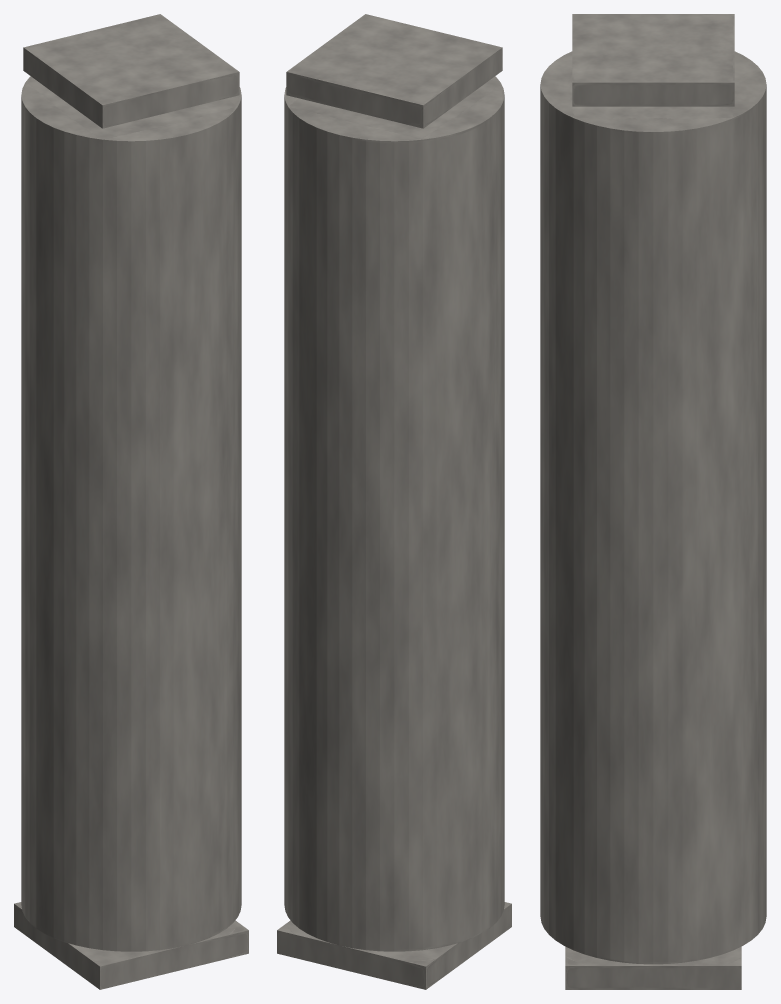
Rendered from pilastro_cripta.glb.
The picture shows the model from 3 angles, left to right: view 1: azimuth 30°, elevation 25°; view 2: azimuth 150°, elevation 25°; view 3: azimuth 270°, elevation 25°; orthographic projection. The views are drawn at different scales.
Parts seen in each view (by area): view 1: Pilastro_LP; view 2: Pilastro_LP; view 3: Pilastro_LP.
Part boxes in pixels (left/top/right/bottom): Pilastro_LP: left=14, top=14, right=248, bottom=989; Pilastro_LP: left=277, top=14, right=511, bottom=989; Pilastro_LP: left=540, top=14, right=766, bottom=989.
Size of the model in its own units: 0.64 by 2.83 by 0.64.
Materials: 1 (1 with a texture image).
